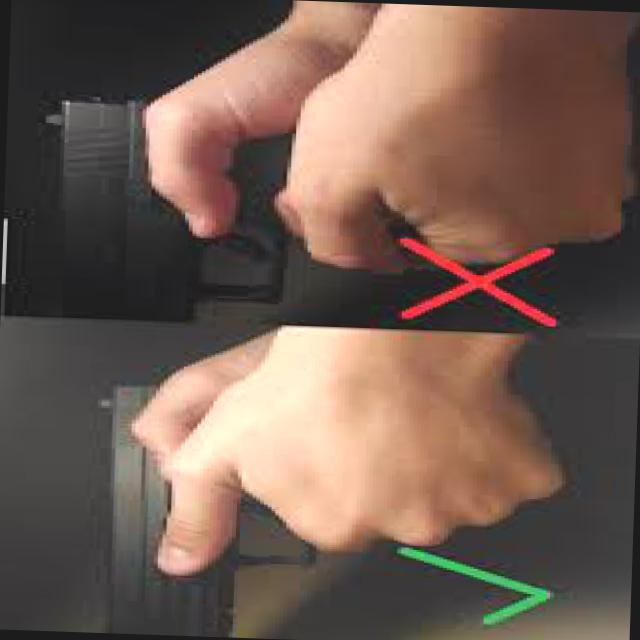handgun: (20, 88, 328, 332)
